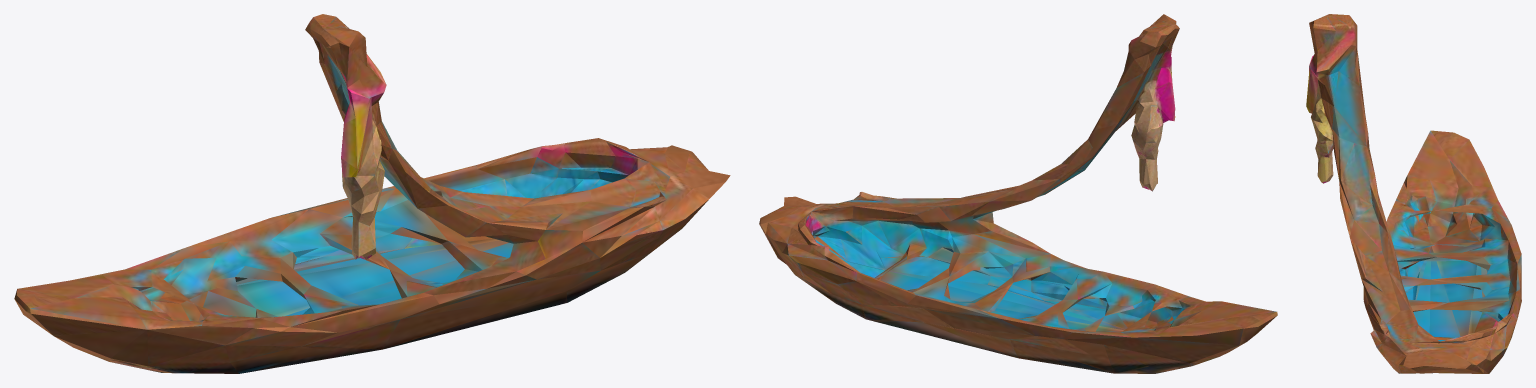
File: longtail_boat_low.glb
The picture shows the model from 3 angles, left to right: view 1: azimuth 30°, elevation 25°; view 2: azimuth 150°, elevation 25°; view 3: azimuth 270°, elevation 25°; orthographic projection. The views are drawn at different scales.
Parts seen in each view (by area): view 1: output_unwrapped; view 2: output_unwrapped; view 3: output_unwrapped.
Boxes of the visible parts, bbox=[...] form: output_unwrapped: bbox=[14, 14, 730, 373]; output_unwrapped: bbox=[759, 14, 1277, 373]; output_unwrapped: bbox=[1306, 14, 1521, 373].
Bounding box in the file's own units: 9 × 4.87 × 3.67.
Materials: 1 (1 with a texture image).
